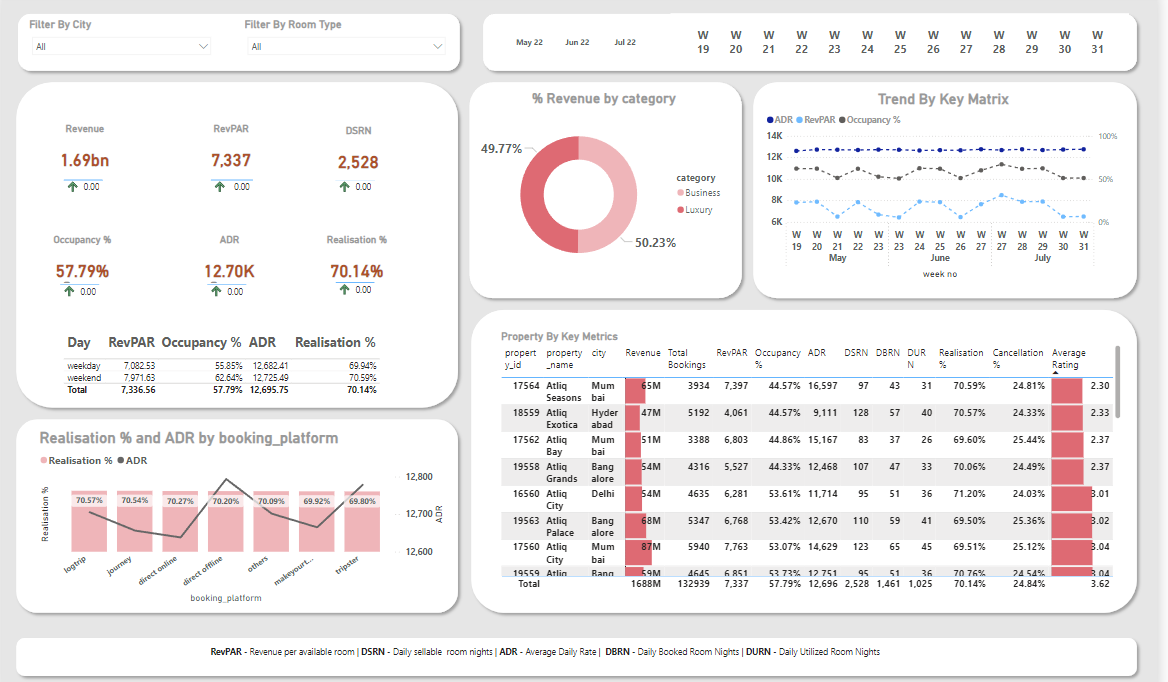

Layout of this report page (visuals, bound fields, positions):
{"tool":"powerbi","page":{"name":"Page 1","canvas":[1800,1100],"ordinal":0},"visuals":[{"type":"shape","title":"Property By Key metrics","box":[722.5,487.9,1055.7,490.5],"z":0},{"type":"shape","box":[13.3,658.5,706.5,319.9],"z":1000},{"type":"shape","box":[1162.4,133.3,615.8,354.6],"z":2000},{"type":"shape","box":[719.8,133.3,442.5,354.6],"z":3000},{"type":"shape","box":[13.3,133.3,706.5,525.2],"z":4000},{"type":"shape","box":[741.1,26.7,1037.1,106.6],"z":5000},{"type":"shape","box":[16,26.7,706.5,106.6],"z":6000},{"type":"tableEx","title":"Property By Key Metrics","fields":{"Values":["dim_hotel.property_id","dim_hotel.property_name","dim_hotel.city","key_measures (2).Revenue","key_measures (2).Total Bookings","key_measures (2).RevPAR","key_measures (2).Occupancy %","key_measures (2).ADR","key_measures (2).DSRN","key_measures (2).DBRN","key_measures (2).DURN","key_measures (2).Realisation %"]},"box":[773.1,527.9,975.7,410.6],"z":7000},{"type":"slicer","title":"Filter By City","fields":{"Values":["dim_hotel.city"]},"box":[37.3,42.7,298.6,64],"z":8000},{"type":"slicer","title":"Filter By Room Type","fields":{"Values":["dim_rooms.room_class"]},"box":[373.2,42.7,327.9,74.6],"z":9000},{"type":"slicer","title":"Filter By City","fields":{"Values":["dim_date.mmm yy"]},"box":[759.8,37.3,271.9,85.3],"z":10000},{"type":"slicer","fields":{"Values":["dim_date.week no"]},"box":[1042.4,34.7,714.5,88],"z":11000},{"type":"donutChart","title":"% Revenue by category","fields":{"Category":["dim_hotel.category"],"Y":["key_measures (2).Occupancy %"]},"box":[741.1,154.6,394.6,301.3],"z":12000},{"type":"tableEx","fields":{"Values":["key_measures (2).Revenue WoW change %"]},"box":[90.6,261.3,77.3,64],"z":13000},{"type":"cardVisual","title":"Revenue","fields":{"Data":["key_measures (2).Revenue"]},"box":[64,205.3,130.6,88],"z":14000},{"type":"lineChart","title":"Trend By Key Matrix","fields":{"Category":["dim_date.mmm yy.Variation.Date Hierarchy.Month","dim_date.week no"],"Y":["key_measures (2).ADR","key_measures (2).RevPAR"],"Y2":["key_measures (2).Occupancy %"]},"box":[1186.4,154.6,562.5,298.6],"z":15000},{"type":"lineStackedColumnComboChart","fields":{"Category":["fact_booking.booking_platform"],"Y":["key_measures (2).Realisation %"],"Y2":["key_measures (2).ADR"]},"box":[53.3,682.5,639.8,277.3],"z":16000},{"type":"tableEx","fields":{"Values":["dim_date.day_type","key_measures (2).RevPAR","key_measures (2).Occupancy %","key_measures (2).ADR","key_measures (2).Realisation %"]},"box":[90.6,527.9,519.9,109.3],"z":17000},{"type":"tableEx","fields":{"Values":["key_measures (2).Revenue WoW change %"]},"box":[85.3,423.9,80,64],"z":18000},{"type":"cardVisual","title":"Occupancy %","fields":{"Data":["key_measures (2).Occupancy %"]},"box":[64,378.6,122.6,74.6],"z":19000},{"type":"tableEx","fields":{"Values":["key_measures (2).Revenue WoW change %"]},"box":[314.6,423.9,77.3,64],"z":20000},{"type":"cardVisual","title":"ADR","fields":{"Data":["key_measures (2).ADR"]},"box":[290.6,378.6,128,74.6],"z":21000},{"type":"tableEx","fields":{"Values":["key_measures (2).Revenue WoW change %"]},"box":[514.5,421.2,77.3,66.6],"z":22000},{"type":"cardVisual","title":"Realisation %","fields":{"Data":["key_measures (2).Realisation %"]},"box":[490.5,378.6,125.3,74.6],"z":23000},{"type":"tableEx","fields":{"Values":["key_measures (2).Revenue WoW change %"]},"box":[514.5,261.3,77.3,64],"z":24000},{"type":"cardVisual","title":"DSRN","fields":{"Data":["key_measures (2).DSRN"]},"box":[471.9,207.9,168,88],"z":25000},{"type":"tableEx","fields":{"Values":["key_measures (2).Revenue WoW change %"]},"box":[319.9,261.3,77.3,64],"z":26000},{"type":"cardVisual","title":"RevPAR","fields":{"Data":["key_measures (2).RevPAR"]},"box":[295.9,205.3,122.6,88],"z":27000},{"type":"shape","box":[13.3,999.7,1764.9,77.3],"z":27001},{"type":"textbox","box":[319.9,1015.7,1093,48],"z":27002}]}

Visuals, with their boxes on the page's 1800x1100 design canvas (x1, y1, x2, y2). These are canvas units, not pixel positions in the 1168x682 screenshot, which may show the page scaled, cropped or inside an application window:
"Property By Key metrics" shape: <region>722, 488, 1778, 978</region>
shape: <region>13, 658, 720, 978</region>
shape: <region>1162, 133, 1778, 488</region>
shape: <region>720, 133, 1162, 488</region>
shape: <region>13, 133, 720, 658</region>
shape: <region>741, 27, 1778, 133</region>
shape: <region>16, 27, 722, 133</region>
"Property By Key Metrics" tableEx: <region>773, 528, 1749, 938</region>
"Filter By City" slicer: <region>37, 43, 336, 107</region>
"Filter By Room Type" slicer: <region>373, 43, 701, 117</region>
"Filter By City" slicer: <region>760, 37, 1032, 123</region>
slicer - dim_date.week no: <region>1042, 35, 1757, 123</region>
"% Revenue by category" donutChart: <region>741, 155, 1136, 456</region>
tableEx - key_measures (2).Revenue WoW change %: <region>91, 261, 168, 325</region>
"Revenue" cardVisual: <region>64, 205, 195, 293</region>
"Trend By Key Matrix" lineChart: <region>1186, 155, 1749, 453</region>
lineStackedColumnComboChart - fact_booking.booking_platform x key_measures (2).Realisation %: <region>53, 682, 693, 960</region>
tableEx - dim_date.day_type x key_measures (2).RevPAR: <region>91, 528, 610, 637</region>
tableEx - key_measures (2).Revenue WoW change %: <region>85, 424, 165, 488</region>
"Occupancy %" cardVisual: <region>64, 379, 187, 453</region>
tableEx - key_measures (2).Revenue WoW change %: <region>315, 424, 392, 488</region>
"ADR" cardVisual: <region>291, 379, 419, 453</region>
tableEx - key_measures (2).Revenue WoW change %: <region>514, 421, 592, 488</region>
"Realisation %" cardVisual: <region>490, 379, 616, 453</region>
tableEx - key_measures (2).Revenue WoW change %: <region>514, 261, 592, 325</region>
"DSRN" cardVisual: <region>472, 208, 640, 296</region>
tableEx - key_measures (2).Revenue WoW change %: <region>320, 261, 397, 325</region>
"RevPAR" cardVisual: <region>296, 205, 418, 293</region>
shape: <region>13, 1000, 1778, 1077</region>
textbox: <region>320, 1016, 1413, 1064</region>
